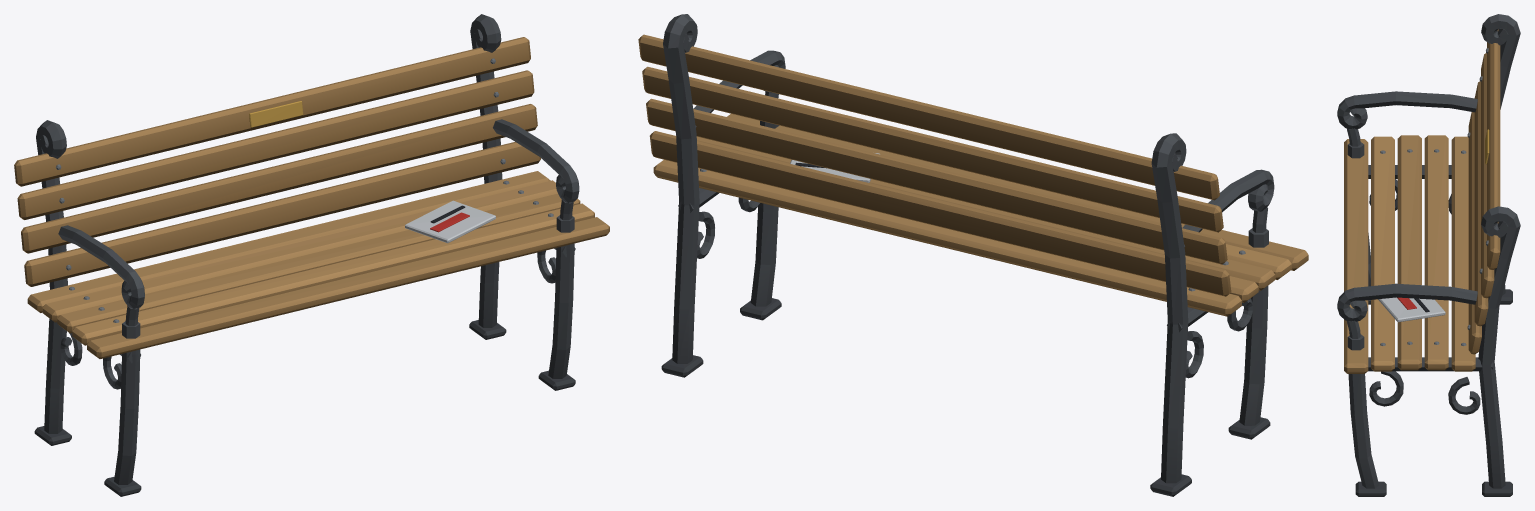
The model's file is fairground-park-bench.glb.
3 renders of one model, left to right at view 1: azimuth 30°, elevation 25°; view 2: azimuth 150°, elevation 25°; view 3: azimuth 270°, elevation 25°, orthographic. The views are drawn at different scales.
Parts seen in each view (by area): view 1: park_bench; view 2: park_bench; view 3: park_bench.
Boxes of the visible parts, box(x1,y1,x2,y2) form: park_bench: box(14, 14, 609, 496); park_bench: box(638, 14, 1308, 496); park_bench: box(1337, 14, 1520, 496).
Size of the model in its own units: 1.56 by 0.9177 by 0.5325.
